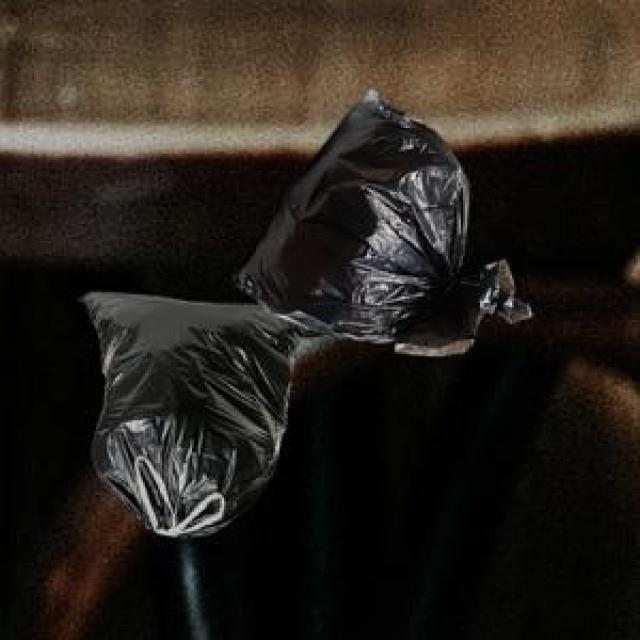Vinyl: (236, 96, 524, 348), (87, 277, 286, 559)
